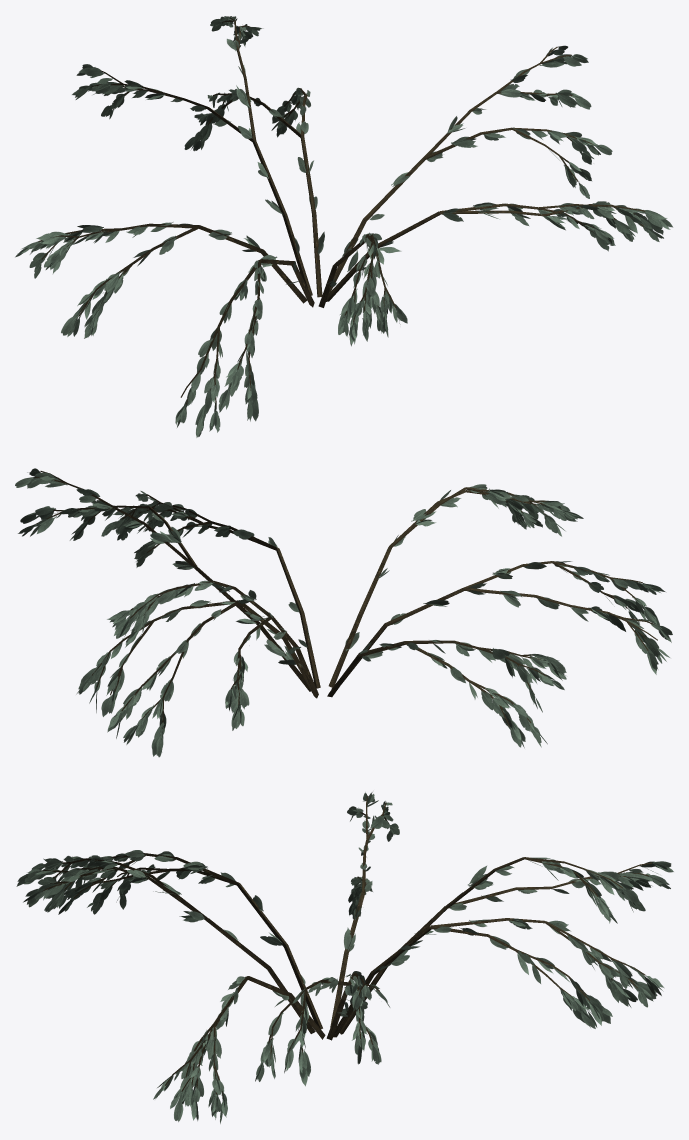
File: willow_shrub_v01_LOD1.glb
The picture shows the model from 3 angles, top to bottom: view 1: azimuth 30°, elevation 25°; view 2: azimuth 150°, elevation 25°; view 3: azimuth 270°, elevation 25°; orthographic projection. The views are drawn at different scales.
Visible parts, largest first — view 1: willow_shrub_v01_LOD1; view 2: willow_shrub_v01_LOD1; view 3: willow_shrub_v01_LOD1.
Boxes of the visible parts, <box> form: willow_shrub_v01_LOD1: <box>15,16,672,437</box>; willow_shrub_v01_LOD1: <box>15,468,672,757</box>; willow_shrub_v01_LOD1: <box>16,792,673,1123</box>.
Bounding box in the file's own units: 6.75 × 2.1 × 6.59.
Materials: 2 (2 with a texture image).
